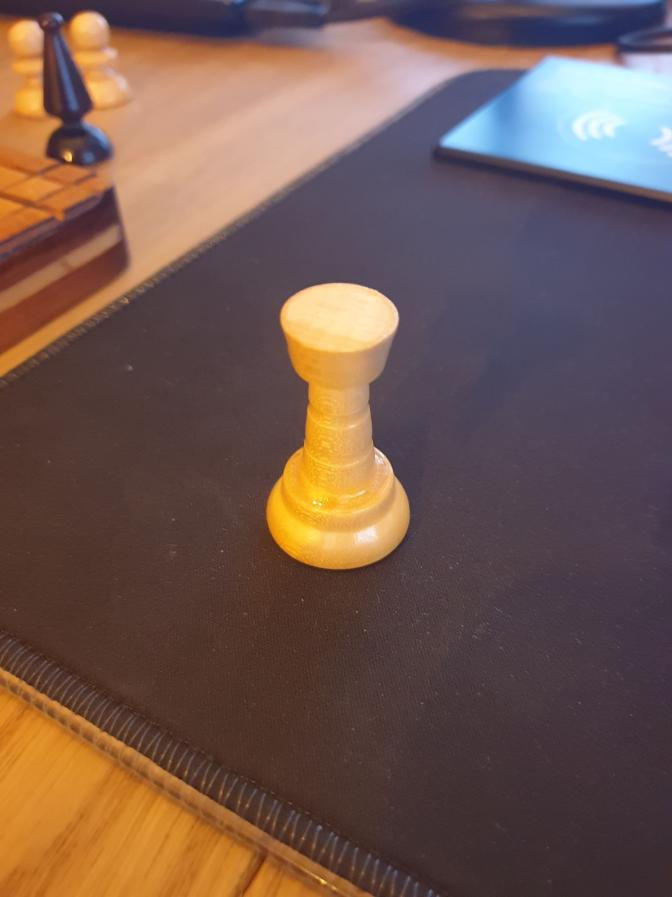wrook: (261, 282, 415, 573)
